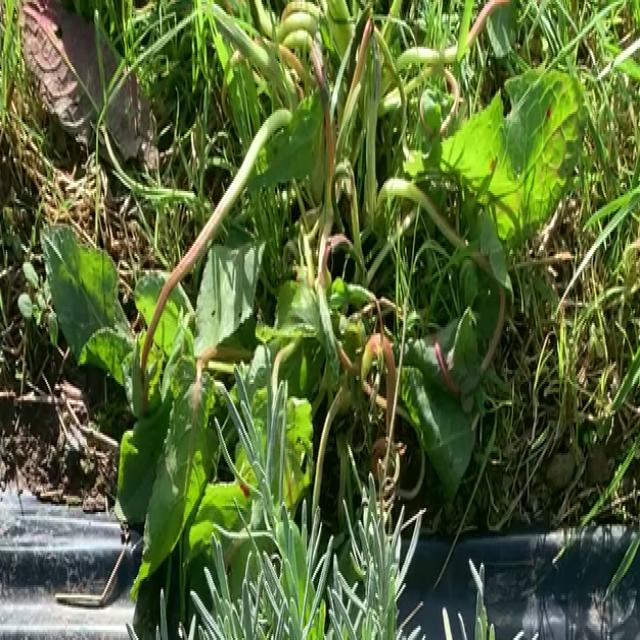organic waste: (87, 0, 568, 628)
